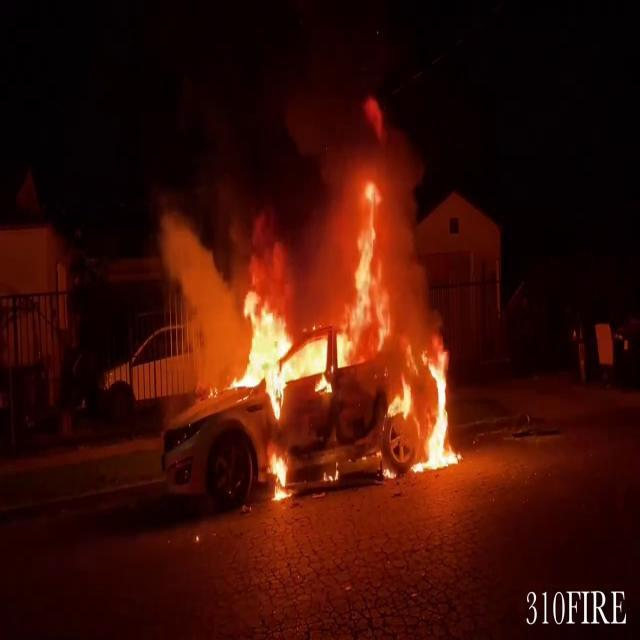Fire: (217, 198, 463, 488), (267, 448, 293, 500)
Smoke: (146, 0, 450, 316)
